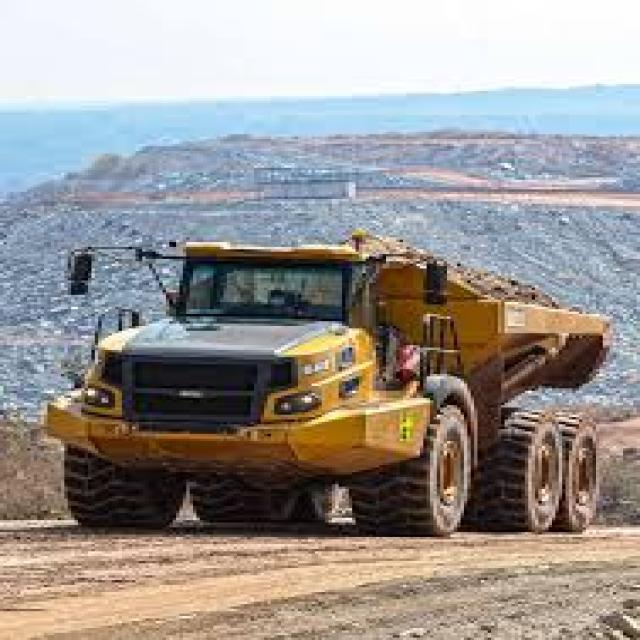dump_truck: (30, 221, 630, 558)
